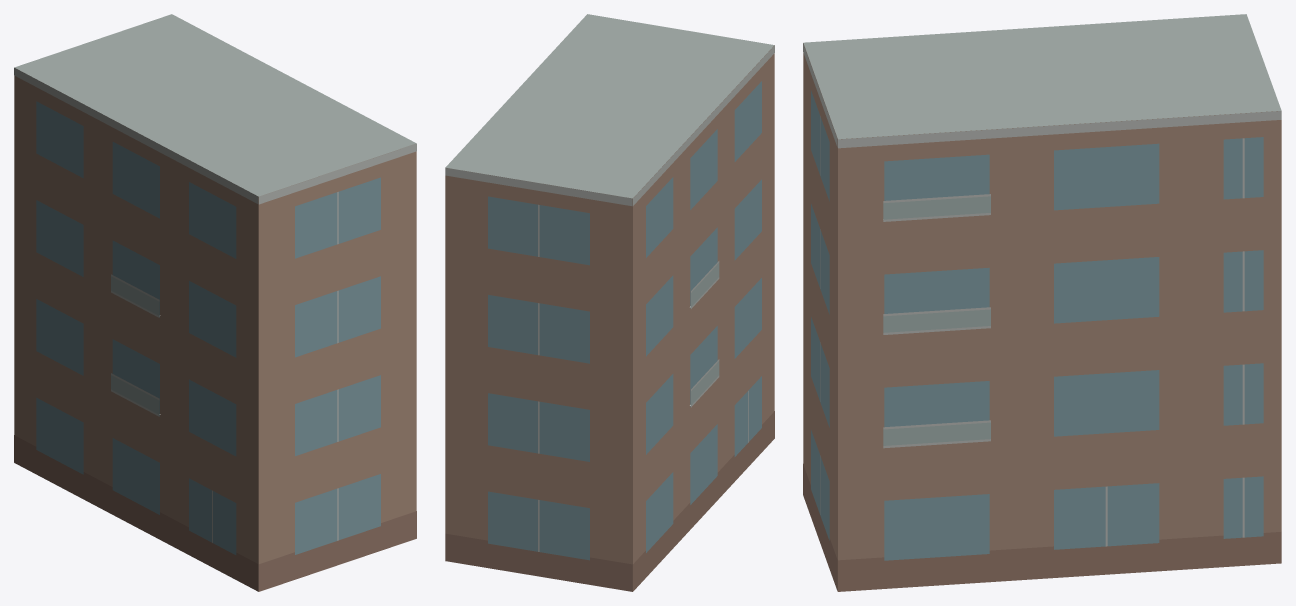
The model's file is residential-b87c6743-e9d1-49e7-b53f-6ae757ca4672.glb.
3 renders of one model, left to right at view 1: azimuth 30°, elevation 25°; view 2: azimuth 150°, elevation 25°; view 3: azimuth 270°, elevation 25°, orthographic. The views are drawn at different scales.
Visible parts, largest first — view 1: residential-b87c6743-e9d1-49e7-b53f-6ae757ca4672.tmp; view 2: residential-b87c6743-e9d1-49e7-b53f-6ae757ca4672.tmp; view 3: residential-b87c6743-e9d1-49e7-b53f-6ae757ca4672.tmp.
Boxes of the visible parts, bbox=[...] form: residential-b87c6743-e9d1-49e7-b53f-6ae757ca4672.tmp: bbox=[14, 14, 416, 591]; residential-b87c6743-e9d1-49e7-b53f-6ae757ca4672.tmp: bbox=[445, 14, 774, 591]; residential-b87c6743-e9d1-49e7-b53f-6ae757ca4672.tmp: bbox=[803, 14, 1281, 591].
Bounding box in the file's own units: 7.25 × 12.2 × 11.7.
